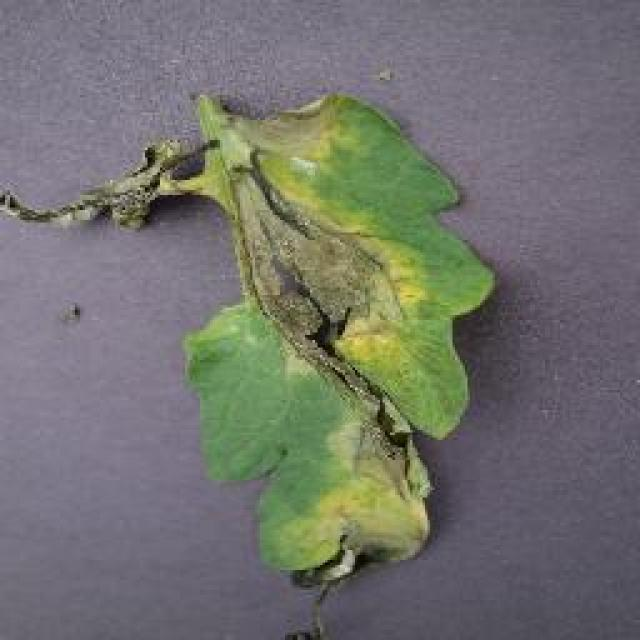Tomato Late Blight: (107, 84, 460, 494)
